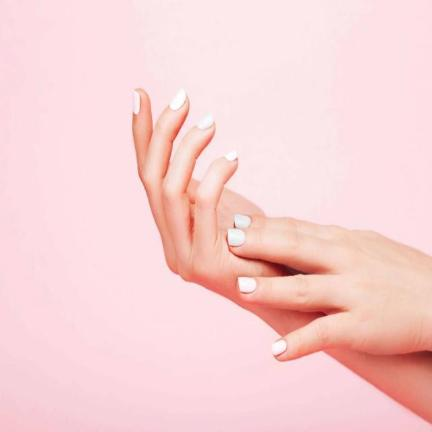Nail: (170, 87, 186, 110), (238, 276, 257, 294), (227, 228, 245, 247), (197, 114, 214, 129), (272, 339, 286, 356), (234, 214, 250, 228), (132, 88, 140, 114), (225, 150, 238, 161)
